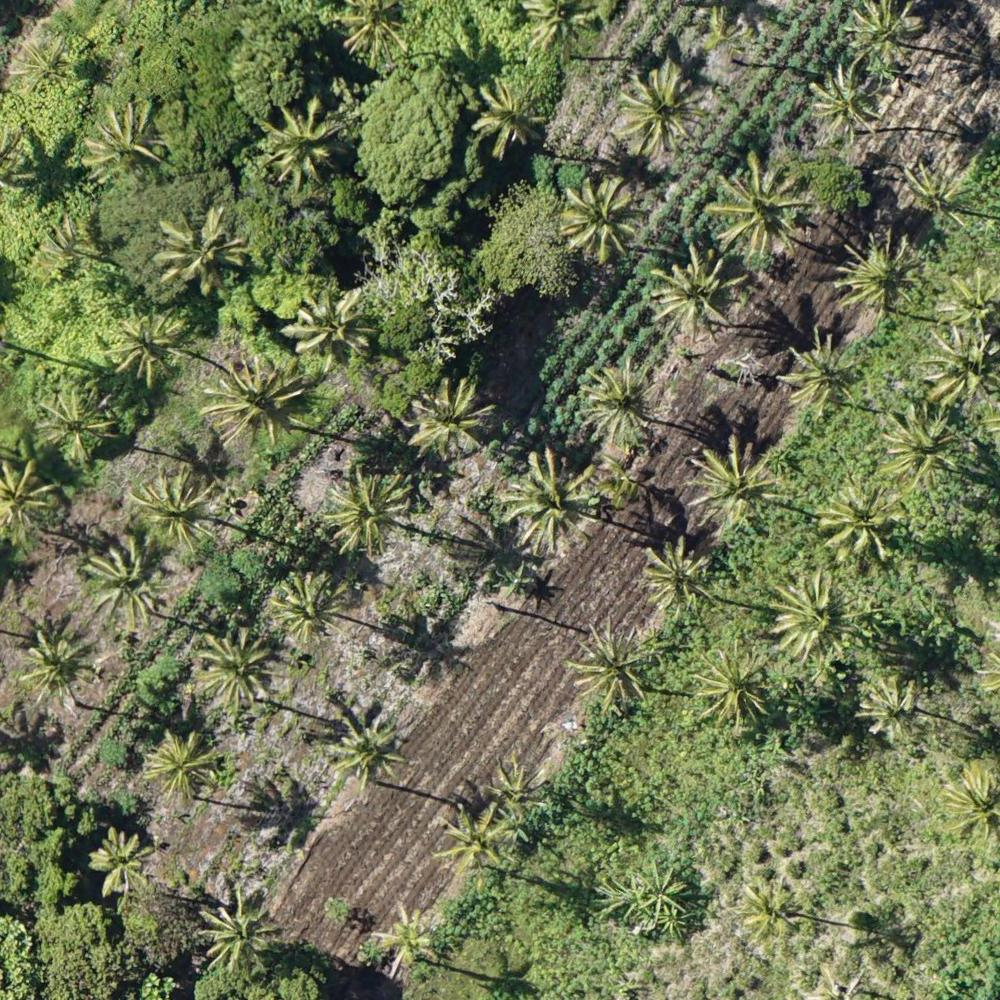Palm: (708, 149, 807, 256), (497, 449, 595, 546), (209, 359, 307, 451), (650, 247, 740, 347), (157, 205, 255, 294), (690, 440, 781, 534), (187, 630, 284, 717), (771, 571, 858, 666), (621, 61, 711, 152), (815, 479, 905, 567), (256, 97, 338, 191), (872, 404, 958, 492), (573, 623, 657, 711), (404, 375, 488, 462), (129, 472, 213, 558), (835, 235, 918, 321), (80, 543, 163, 628), (325, 468, 406, 554), (693, 644, 776, 726), (285, 282, 369, 363), (921, 325, 1000, 410), (561, 173, 638, 260), (329, 710, 412, 789), (83, 101, 168, 178), (435, 799, 516, 878), (637, 540, 718, 619), (199, 891, 276, 974), (801, 63, 885, 139), (784, 329, 861, 411), (583, 360, 658, 443), (267, 568, 342, 646), (30, 389, 112, 460), (140, 729, 217, 801), (23, 627, 101, 698), (108, 310, 186, 378), (474, 77, 547, 149), (335, 1, 412, 68), (850, 1, 923, 71), (88, 825, 151, 899), (902, 155, 968, 224), (379, 907, 447, 972), (523, 1, 597, 59), (938, 264, 1000, 332), (865, 674, 925, 744), (1, 462, 53, 542), (741, 881, 804, 946), (945, 762, 1000, 836), (12, 34, 72, 96), (490, 761, 554, 817)
